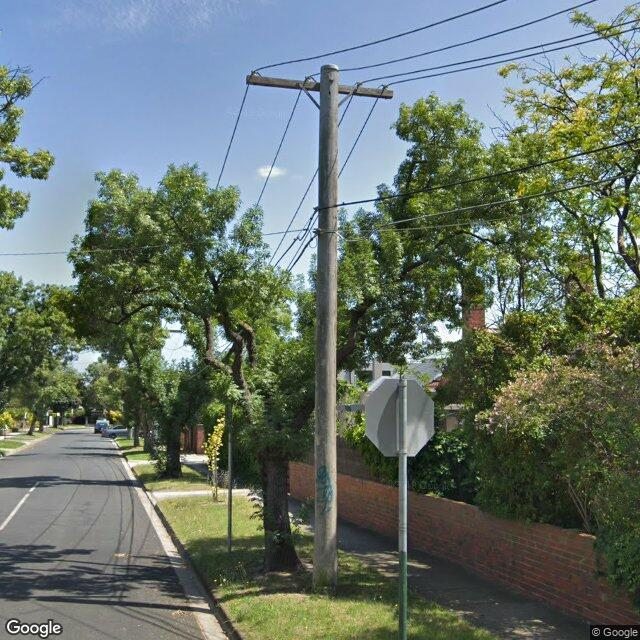concrete-pole: (312, 64, 339, 595)
crossarm: (246, 74, 393, 100)
